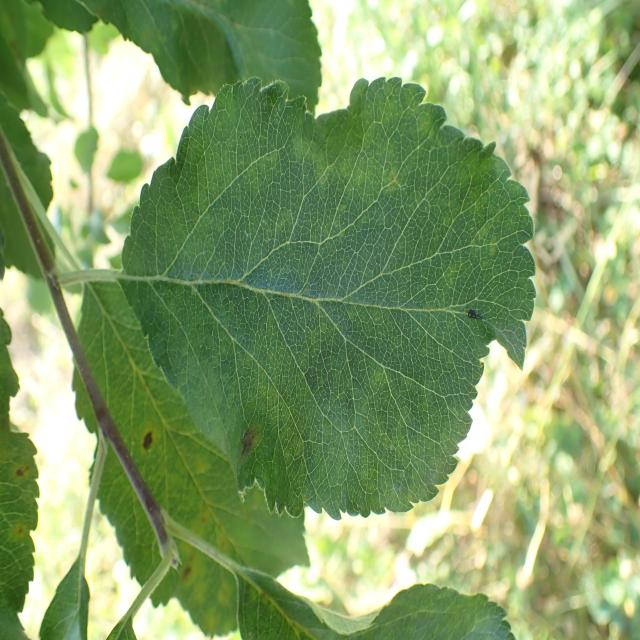scab: (136, 101, 491, 329), (177, 0, 277, 61), (232, 407, 267, 488)
